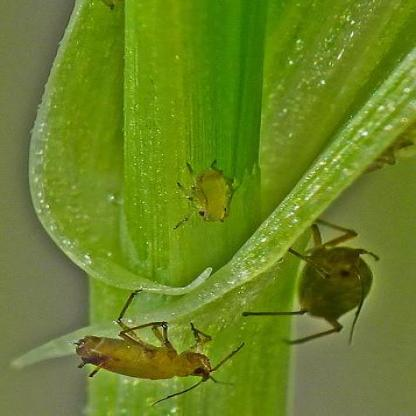aphid: (72, 290, 235, 407), (257, 209, 390, 351), (166, 148, 244, 230)
